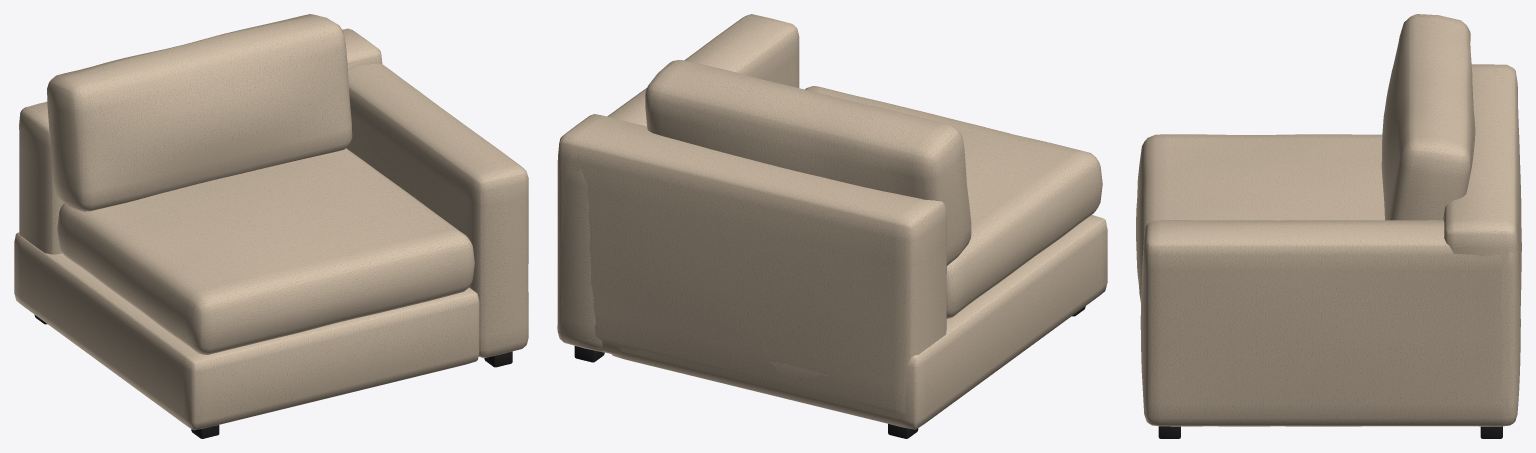
File: sofa_modular_brazo_dcho.glb
The picture shows the model from 3 angles, left to right: view 1: azimuth 30°, elevation 25°; view 2: azimuth 150°, elevation 25°; view 3: azimuth 270°, elevation 25°; orthographic projection. The views are drawn at different scales.
Parts seen in each view (by area): view 1: sofa_modular_brazo_dcho; view 2: sofa_modular_brazo_dcho; view 3: sofa_modular_brazo_dcho.
Boxes of the visible parts, <box> form: sofa_modular_brazo_dcho: <box>14,14,528,438</box>; sofa_modular_brazo_dcho: <box>557,14,1107,438</box>; sofa_modular_brazo_dcho: <box>1136,14,1521,438</box>.
Bounding box in the file's own units: 1.09 × 0.8066 × 1.03.
Materials: 2 (1 with a texture image).
